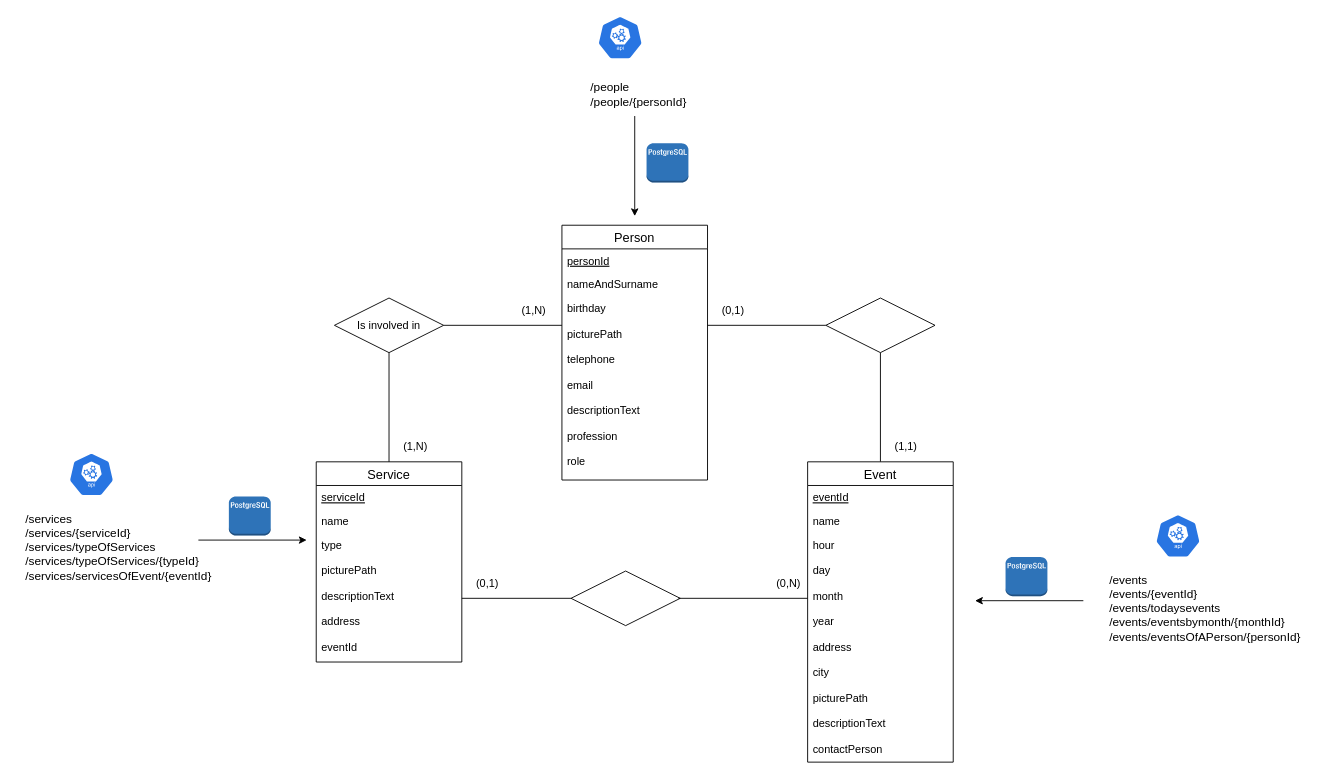
Image size: 1323x781. Some labels were removed from this diagram. Here are the shapes that lost their labels. From the top down, the centre of each, then its label:
pixel 880 325: Is contact for
pixel 625 598: Presents
